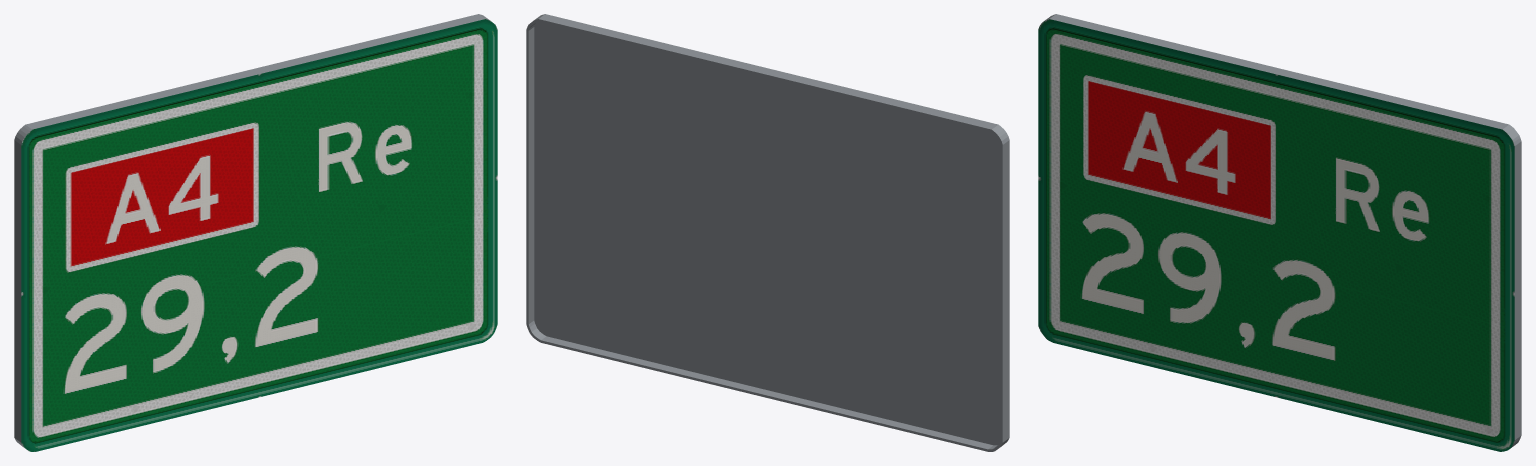
3 views of the same model, side by side, from view 1: azimuth 30°, elevation 25°; view 2: azimuth 150°, elevation 25°; view 3: azimuth 330°, elevation 25° (orthographic).
Parts seen in each view (by area): view 1: cat_ea16c454f2353399; view 2: cat_ea16c454f2353399; view 3: cat_ea16c454f2353399.
Boxes of the visible parts, x1,y1,x2,y2 form: cat_ea16c454f2353399: [14, 14, 497, 451]; cat_ea16c454f2353399: [526, 14, 1009, 451]; cat_ea16c454f2353399: [1038, 14, 1521, 451].
Size of the model in its own units: 0.6 by 0.015 by 0.3889.
2 materials, 1 textured.
